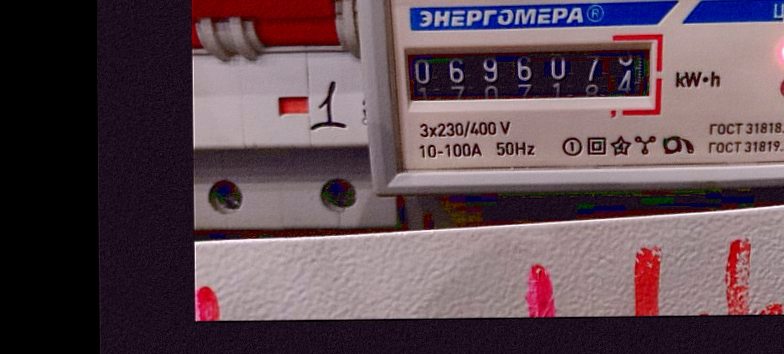0: (550, 51, 568, 81), (415, 57, 432, 85)
4: (617, 65, 634, 95)
6: (517, 52, 534, 82), (449, 55, 466, 83)
7: (584, 52, 603, 83)
9: (482, 55, 500, 83)
screen: (393, 30, 671, 117)
